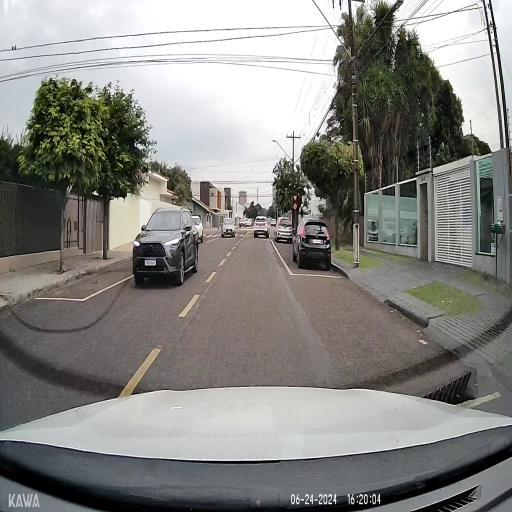R-2: (294, 195, 298, 202)
R-33: (293, 203, 297, 210)
